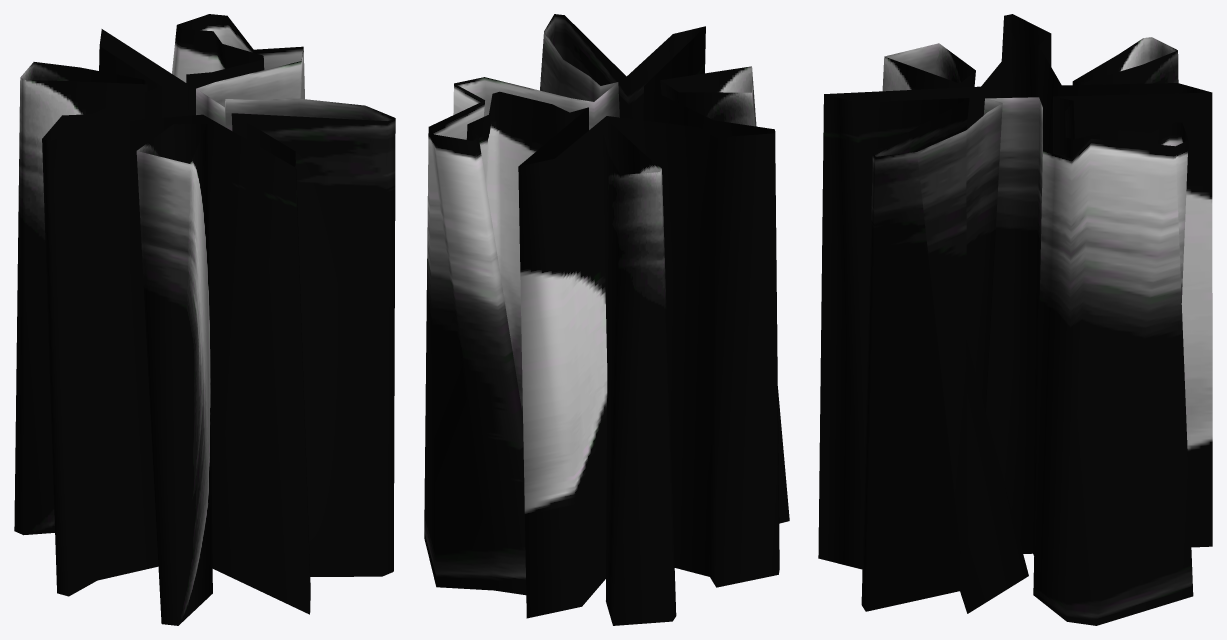
File: 0300_guangxian.glb
The picture shows the model from 3 angles, left to right: view 1: azimuth 30°, elevation 25°; view 2: azimuth 150°, elevation 25°; view 3: azimuth 270°, elevation 25°; orthographic projection. The views are drawn at different scales.
Bounding box in the file's own units: 1.58 × 2.2 × 1.71.
Materials: 1 (1 with a texture image).
